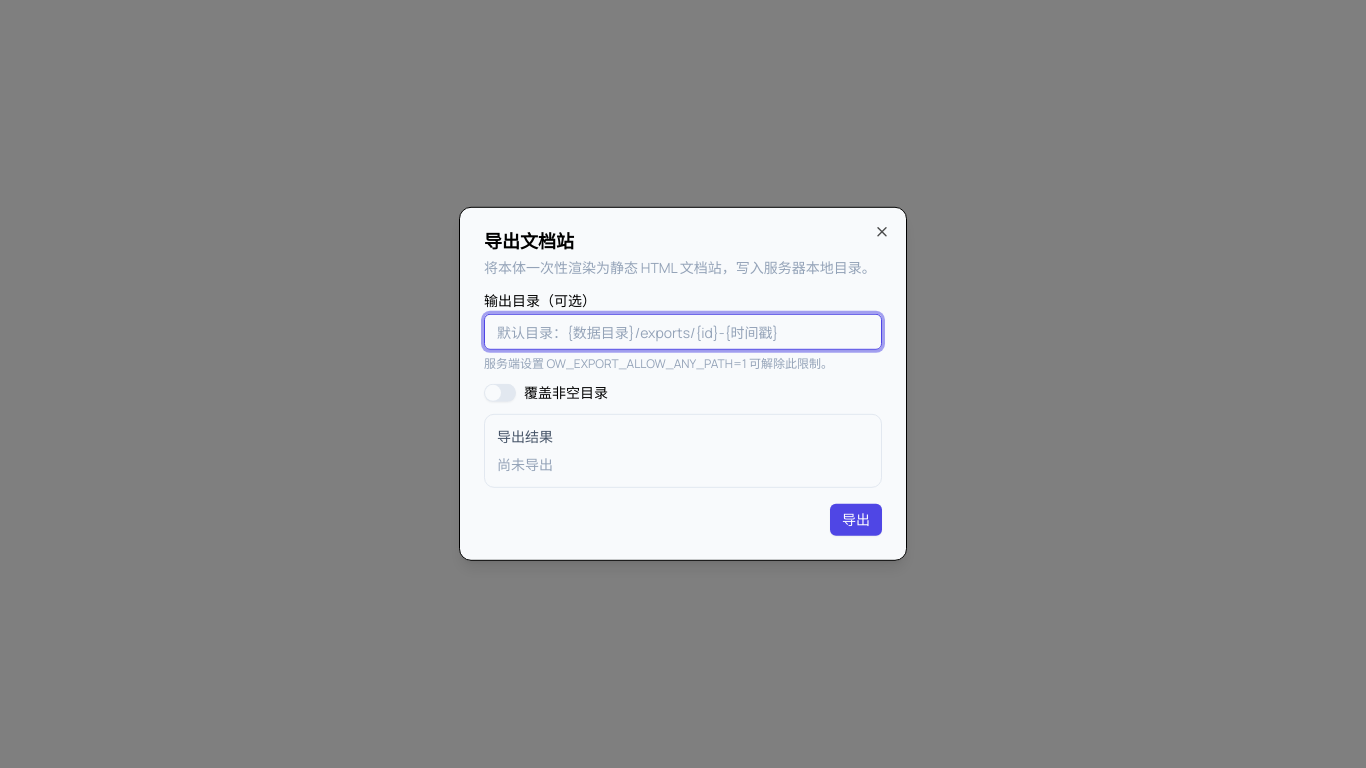
ExportDialog › renders the result inside the dialog with outputDir and pageCount on success
The image size is (1366, 768).
Click the button "导出" at (856, 520), box [830,504,882,536]
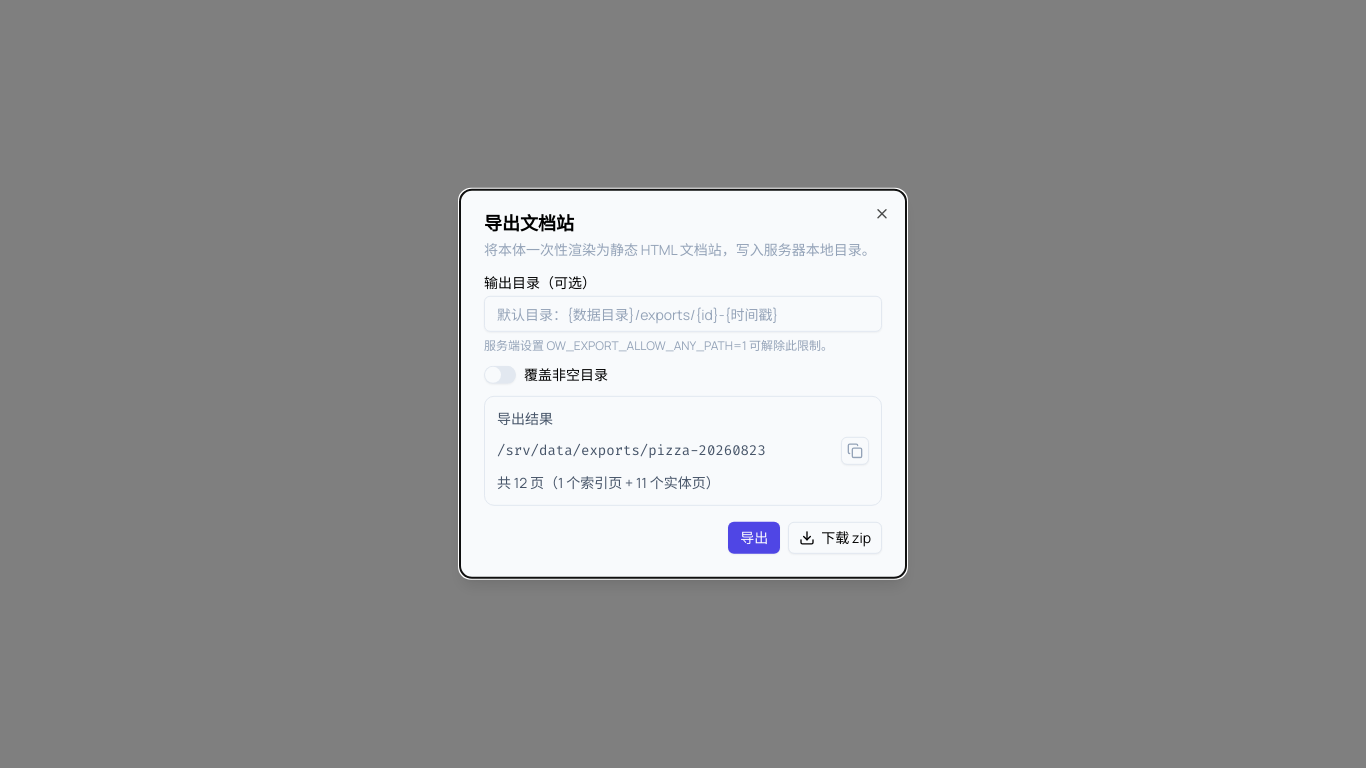
Check: the text "/srv/data/exports/pizza-20260823" is shown, box [497,441,766,460]
Check: the text "共 12 页（1 个索引页 + 11 个实体页）" is shown, box [497,473,720,492]
Check: the text "尚未导出" is gone
